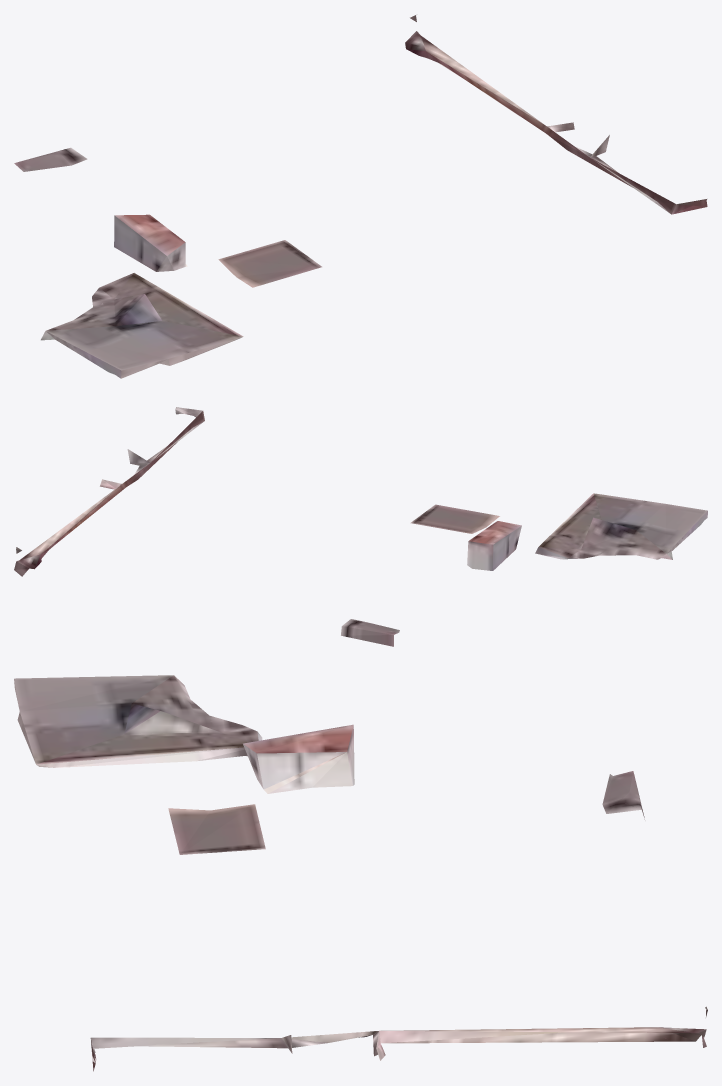
3 views of the same model, one above another, from view 1: azimuth 30°, elevation 25°; view 2: azimuth 150°, elevation 25°; view 3: azimuth 270°, elevation 25° (orthographic). The views are drawn at different scales.
Visible parts, largest first — view 1: Mesh_0; view 2: Mesh_0; view 3: Mesh_0.
Boxes of the visible parts, x1,y1,x2,y2 form: Mesh_0: (14,15,707,378); Mesh_0: (14,407,707,646); Mesh_0: (14,675,707,1071).
Size of the model in its own units: 55.42 by 3.87 by 41.42.
Materials: 1 (1 with a texture image).
